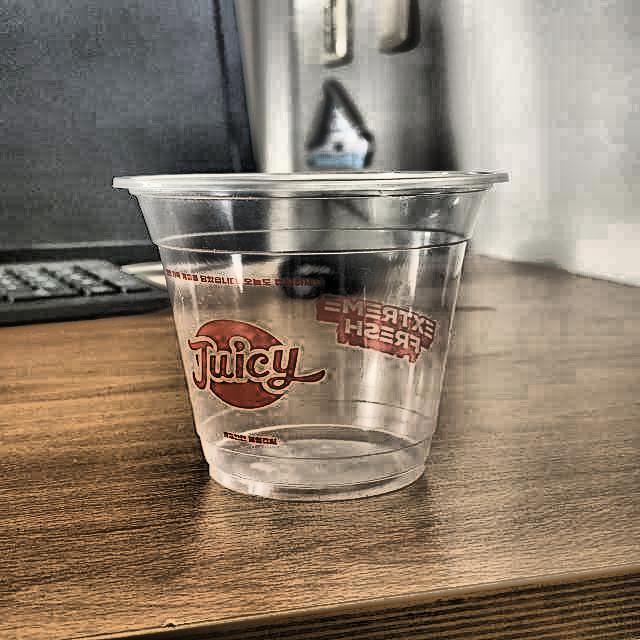plastic cup: (113, 170, 523, 500)
